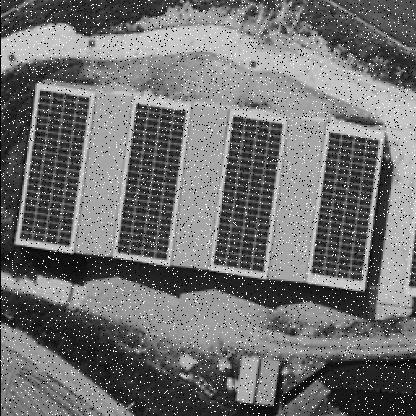solar-pv-panel: (212, 116, 283, 271), (116, 105, 186, 260), (19, 90, 88, 247), (310, 132, 378, 281)
